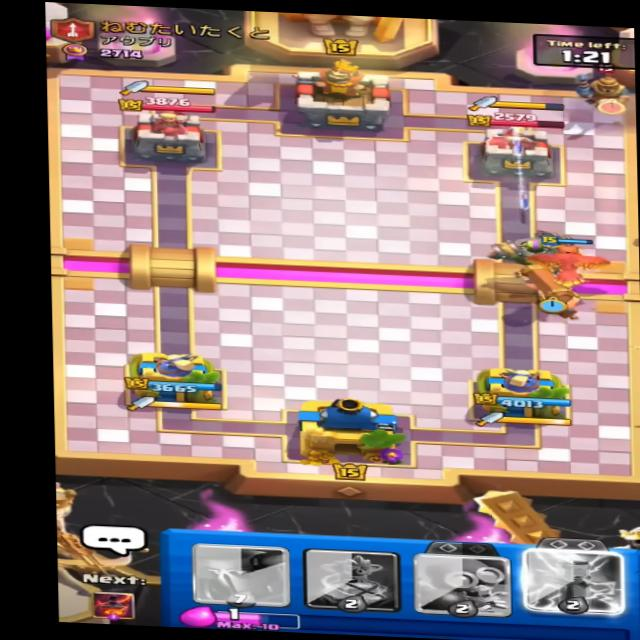prince: (572, 63, 631, 114)
